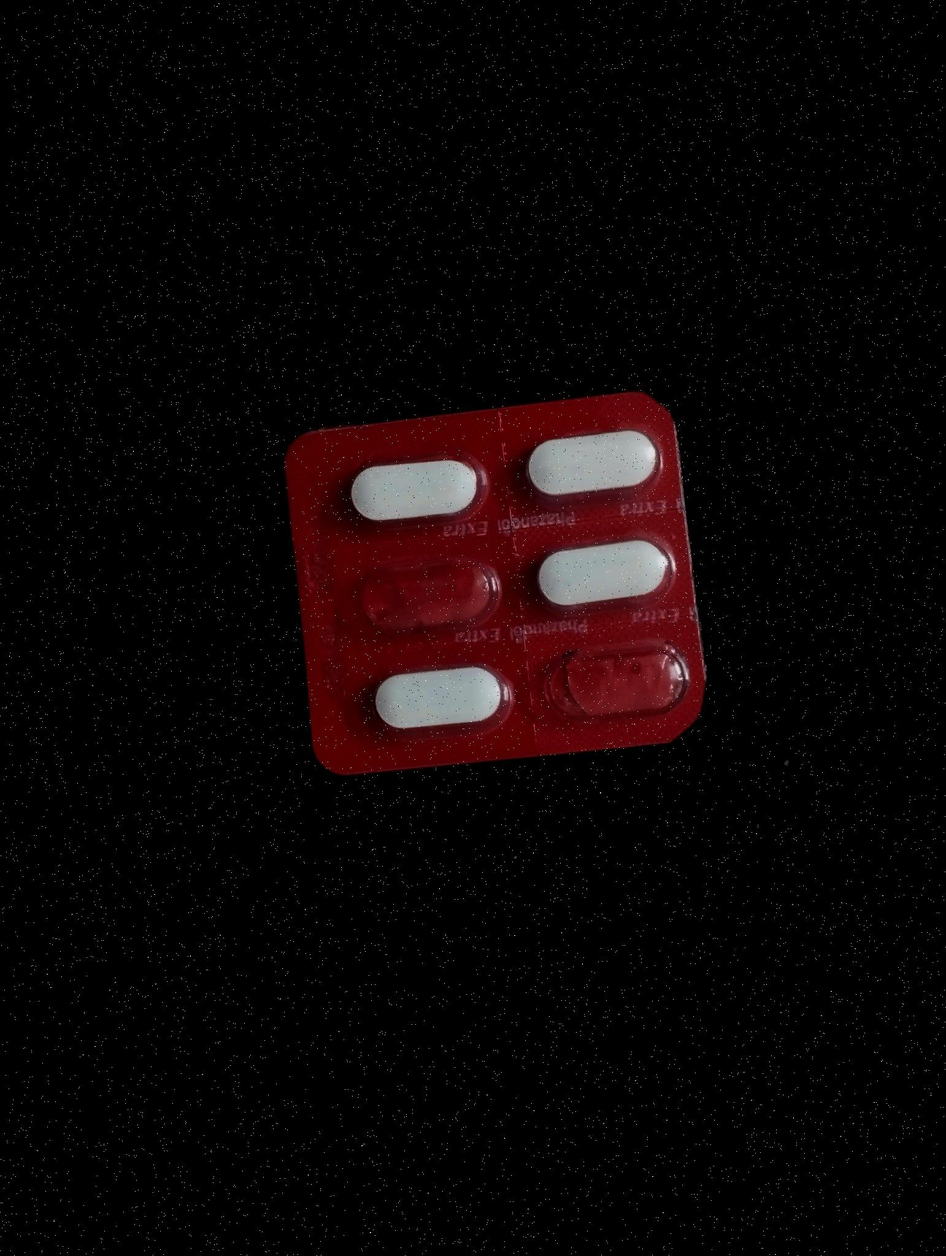Empty: (337, 552, 507, 643), (537, 636, 694, 733)
Full: (520, 532, 680, 627), (345, 441, 489, 540), (517, 426, 672, 501), (370, 662, 520, 739)
